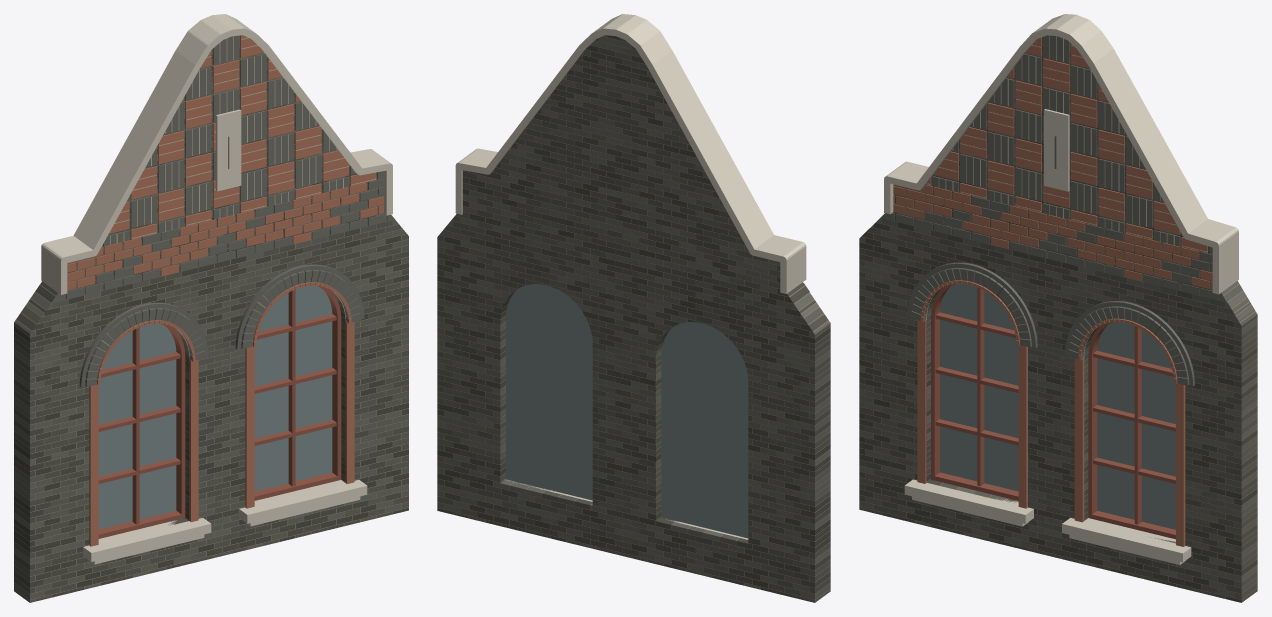
Rendered from huoshan-gable-near.glb.
3 views of the same model, side by side, from view 1: azimuth 30°, elevation 25°; view 2: azimuth 150°, elevation 25°; view 3: azimuth 330°, elevation 25° (orthographic).
Visible parts, largest first — view 1: 霍山路舟山路转角住宅双券窗与棋格山墙; view 2: 霍山路舟山路转角住宅双券窗与棋格山墙; view 3: 霍山路舟山路转角住宅双券窗与棋格山墙.
Part boxes in pixels (x1=…): 霍山路舟山路转角住宅双券窗与棋格山墙: x1=14, y1=14, x2=408, y2=602; 霍山路舟山路转角住宅双券窗与棋格山墙: x1=437, y1=14, x2=830, y2=602; 霍山路舟山路转角住宅双券窗与棋格山墙: x1=859, y1=14, x2=1257, y2=602.
Size of the model in its own units: 4.42 by 5.88 by 0.503.
Materials: 7 (1 with a texture image).
